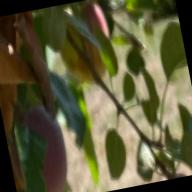Apples: (2, 100, 74, 192), (51, 0, 118, 87)
